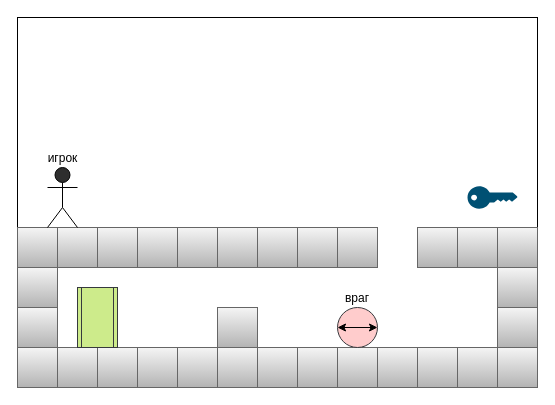
This 555x405 diagram has some shape labels left out. The box of each missing label's shape, as (x1, y1, x2, y2) in pixels:
дверь: (76, 286, 118, 348)
ключ: (467, 186, 517, 208)
